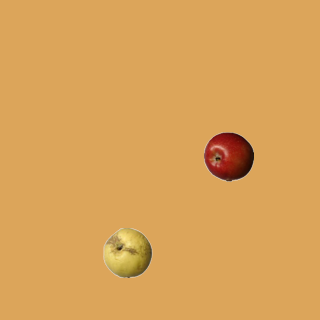Apple Braeburn: (203, 131, 253, 181)
Apple Golden 1: (102, 227, 152, 277)
